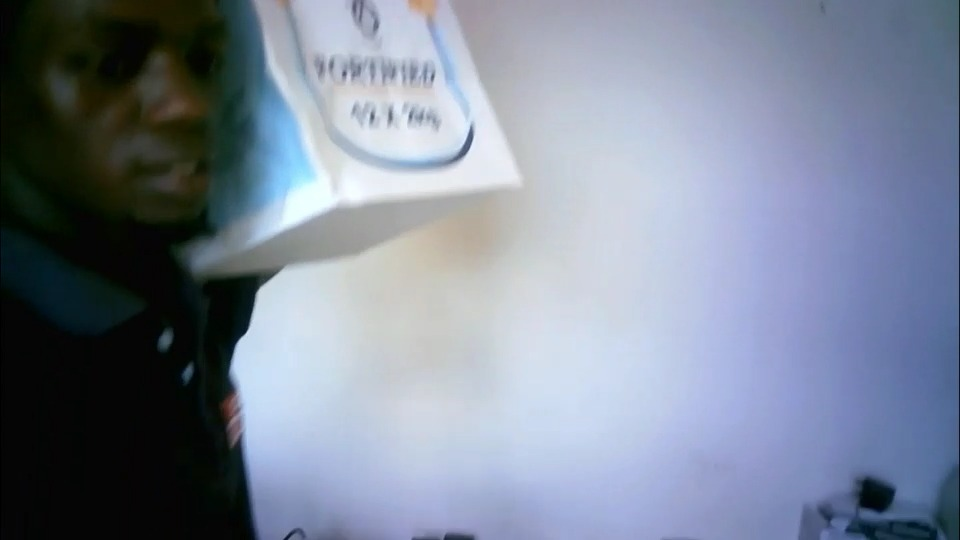wheat_flour_blue_label: (182, 0, 532, 275)
